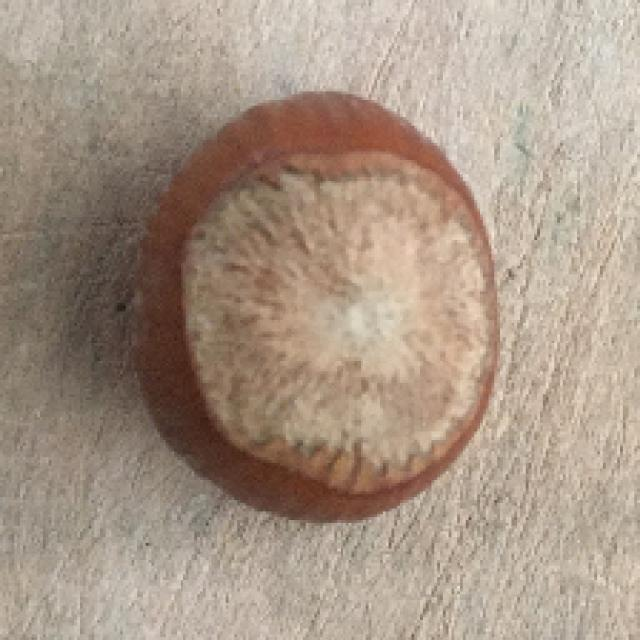qualityHazelnut: (125, 82, 500, 529)
